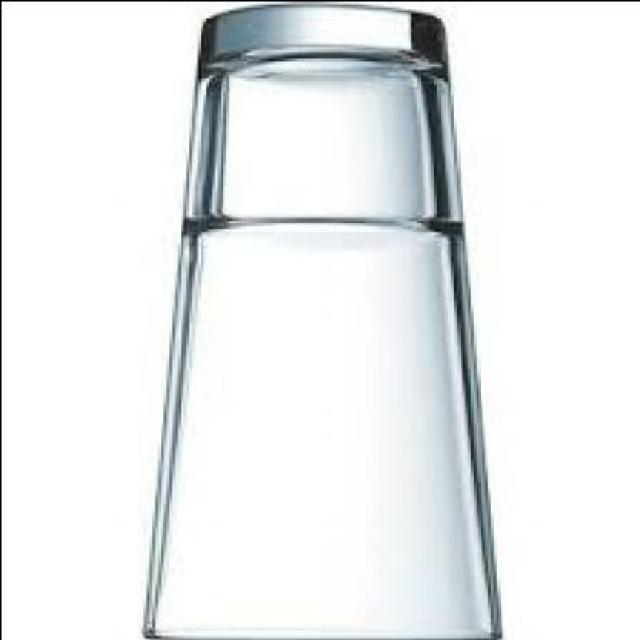glass: (136, 3, 496, 639)
